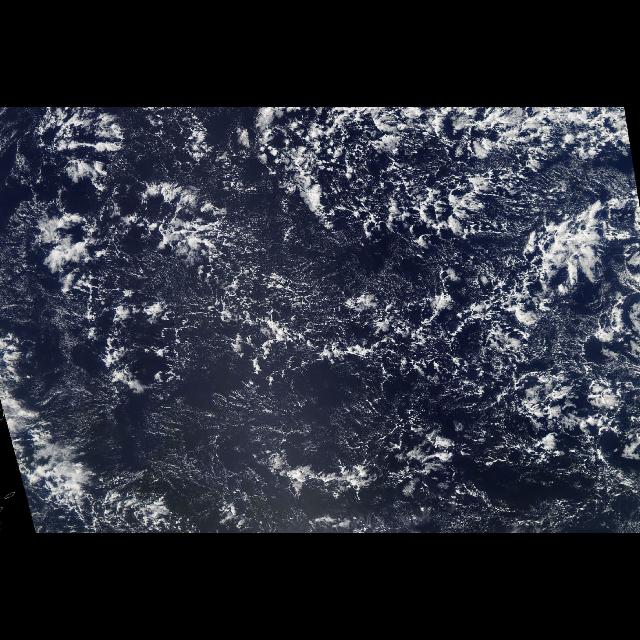Gravel: (252, 109, 638, 437)
